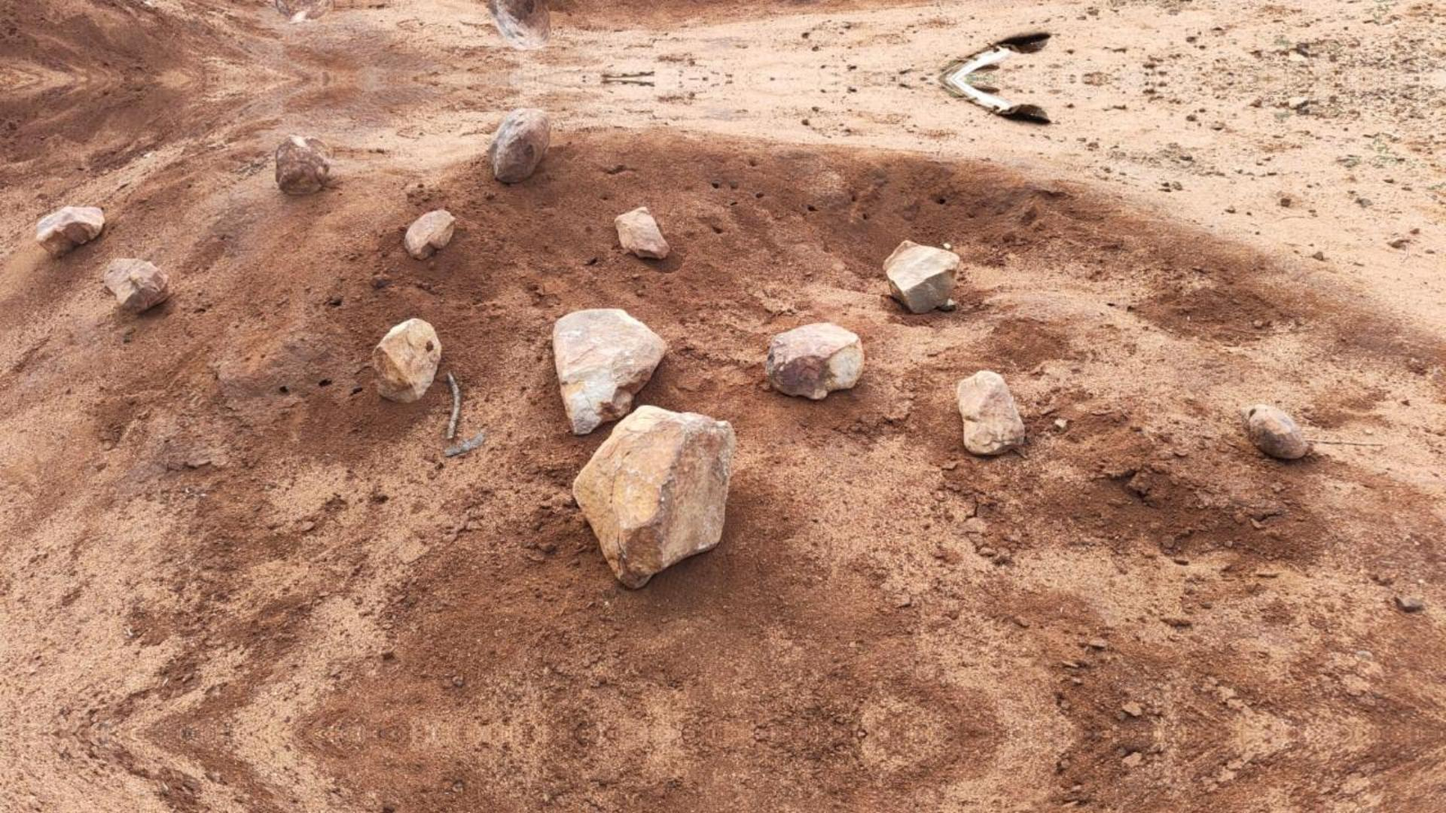rock: (573, 405, 734, 588), (552, 308, 665, 435), (765, 323, 863, 399), (372, 318, 441, 402), (883, 239, 959, 312), (957, 370, 1023, 454), (488, 108, 549, 183), (1242, 403, 1309, 458), (104, 259, 172, 313), (36, 206, 104, 256), (276, 134, 332, 194), (488, 0, 548, 49), (615, 206, 669, 259), (403, 210, 454, 259), (275, 0, 332, 23)
